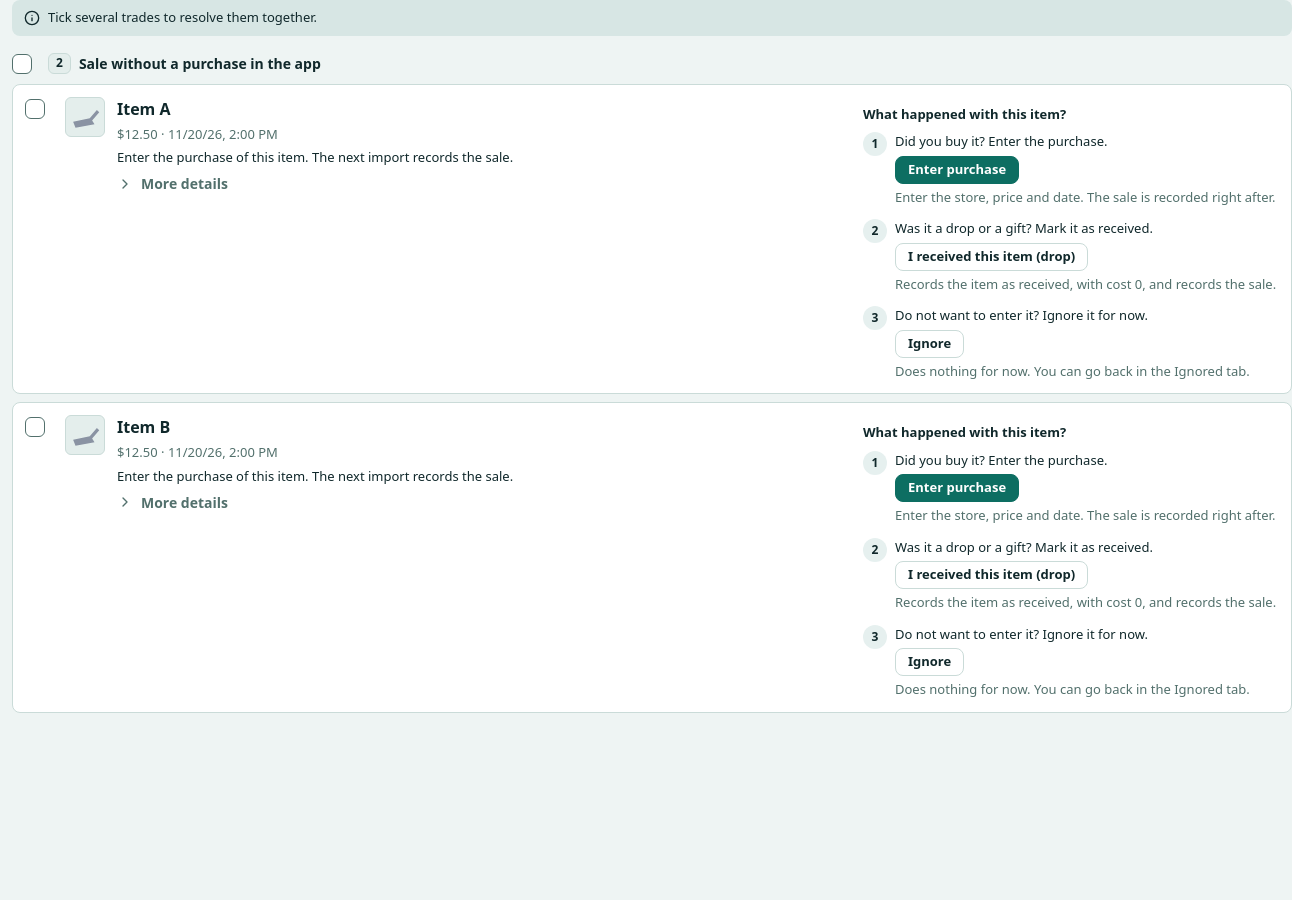
Test case: ImportEntriesList: escolhas, passos e lote › tudo ou nada: o conflito do lote mostra a falha na linha e nada some
Click the checkbox named "Select all in Sale without a purchase in the app": (22, 64) [12,54,32,74]
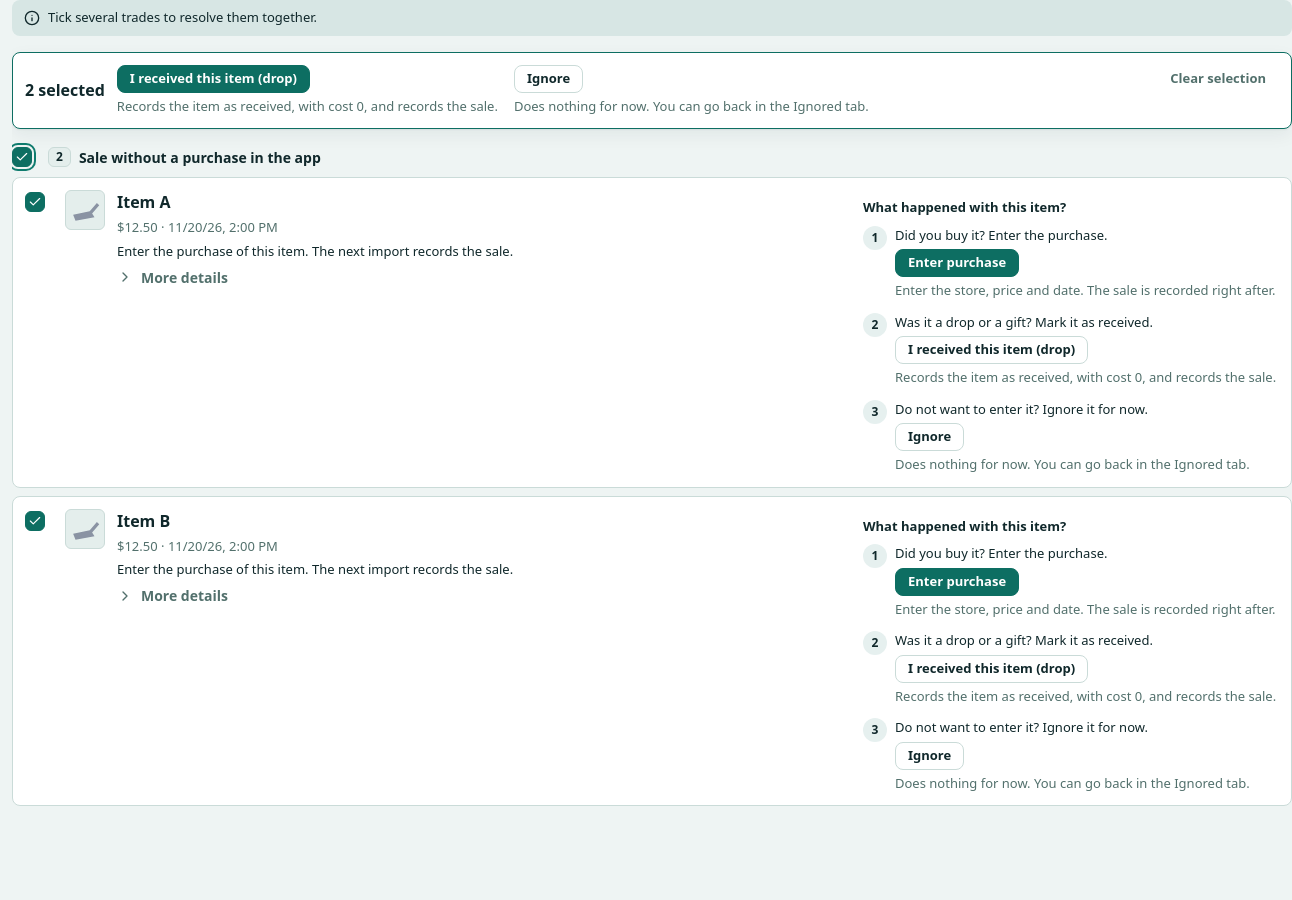
Click the button "Ignore" in the row of "2 selected": (548, 78) [514,64,583,92]
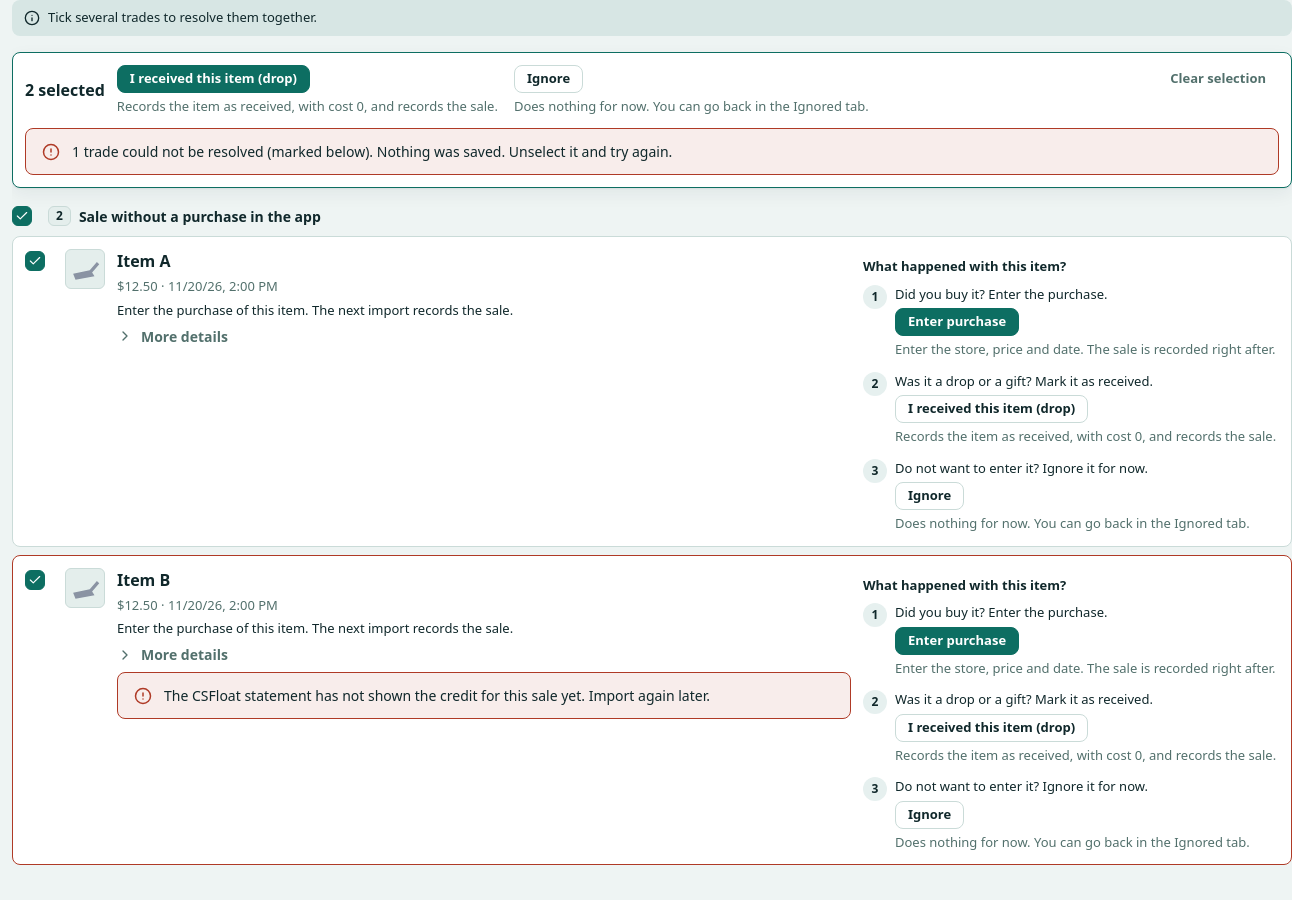
Expected: the text "Item A" is shown, [117,250,170,272]
Result: the text "has not shown the credit for this sale yet" is shown at [164,686,710,705]
Result: the text "1 trade could not be resolved" is shown at [72,142,672,161]
